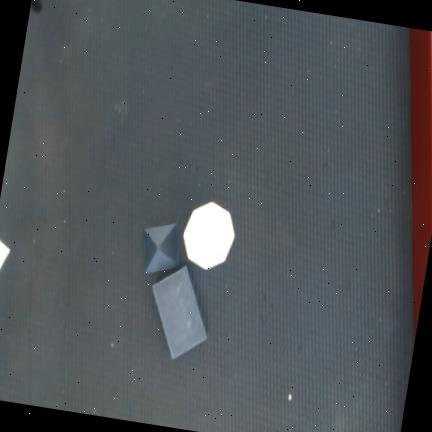Paralelepipedo: (152, 264, 208, 361)
Piramide: (143, 222, 180, 274), (0, 239, 11, 269)
Prisma_hexagonal: (183, 201, 235, 271)
